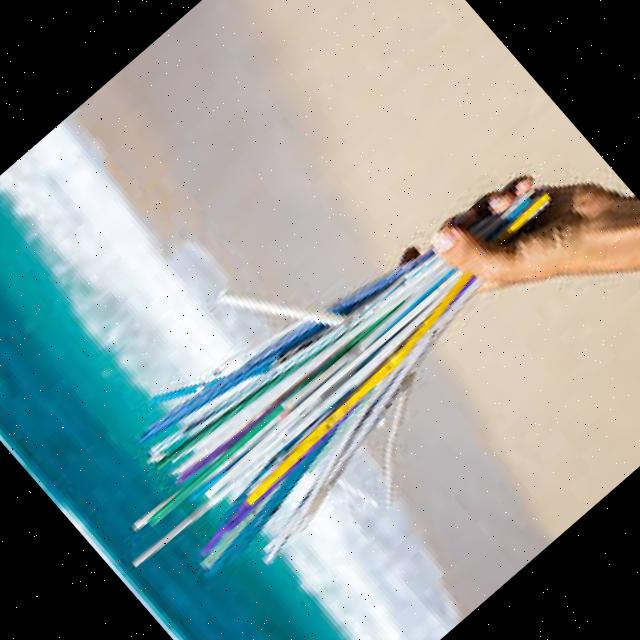plastic: (313, 334, 518, 531)
